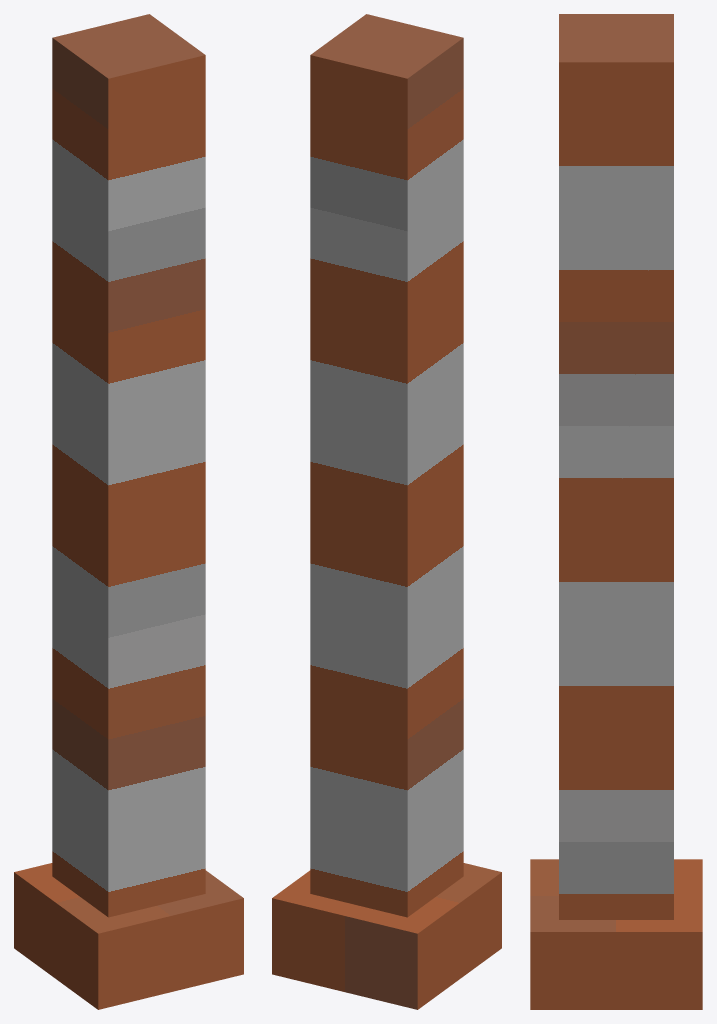
File: traffic_pole.obj
3 renders of one model, left to right at view 1: azimuth 30°, elevation 25°; view 2: azimuth 150°, elevation 25°; view 3: azimuth 270°, elevation 25°, orthographic. The views are drawn at different scales.
Visible parts, largest first — view 1: cube; view 2: cube; view 3: cube.
Part boxes in pixels (box(x1,y1,x2,y2)): cube: box(14, 14, 243, 1009); cube: box(272, 14, 501, 1009); cube: box(530, 14, 702, 1009).
Bounding box in the file's own units: 0.1875 × 1.12 × 0.1875.
